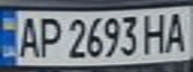2: (63, 15, 87, 60)
3: (118, 12, 142, 56)
6: (84, 15, 106, 60)
9: (103, 14, 124, 58)
A: (160, 8, 193, 54), (12, 14, 42, 58)
H: (139, 10, 172, 55)
P: (33, 13, 63, 60)
